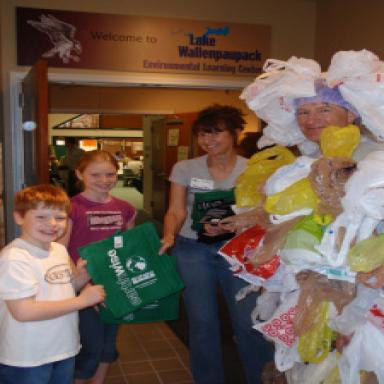person: (212, 77, 380, 381), (160, 103, 268, 382), (68, 148, 137, 382)
plasticbag: (215, 48, 382, 382)
